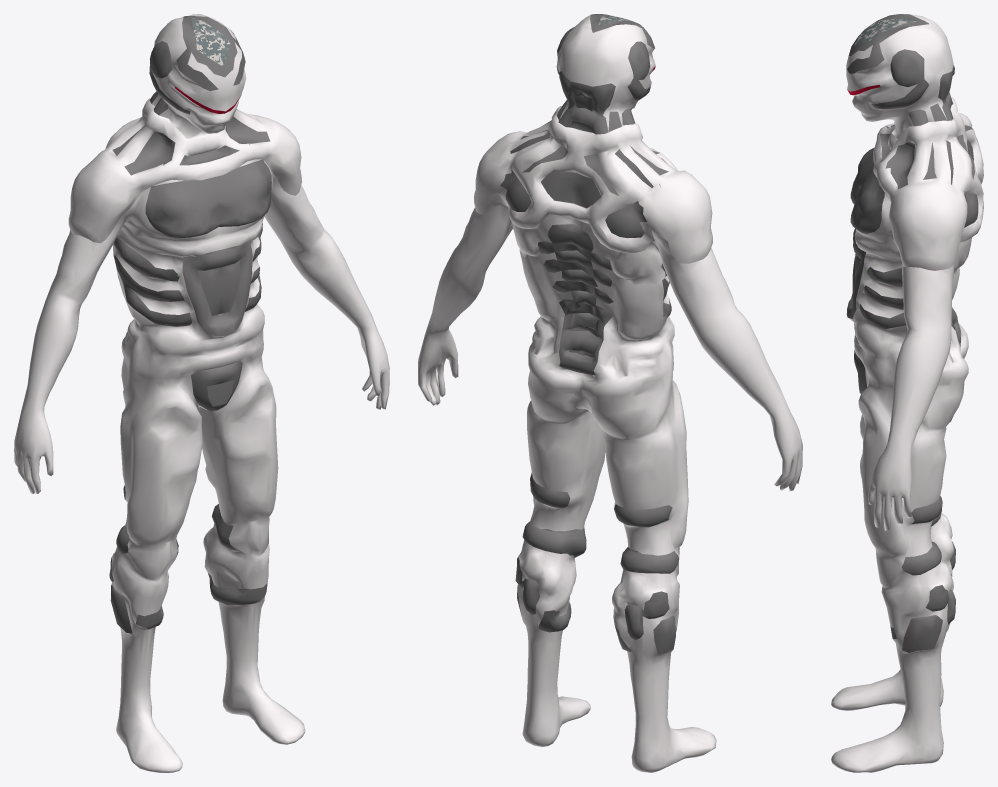
File: edan.FBX
3 renders of one model, left to right at view 1: azimuth 30°, elevation 25°; view 2: azimuth 150°, elevation 25°; view 3: azimuth 270°, elevation 25°, orthographic. The views are drawn at different scales.
Parts seen in each view (by area): view 1: edan; view 2: edan; view 3: edan.
Part boxes in pixels (bbox=[...]): edan: bbox=[14, 14, 389, 772]; edan: bbox=[418, 14, 802, 772]; edan: bbox=[831, 14, 983, 772].
Bounding box in the file's own units: 95.12 × 176 × 34.15.
